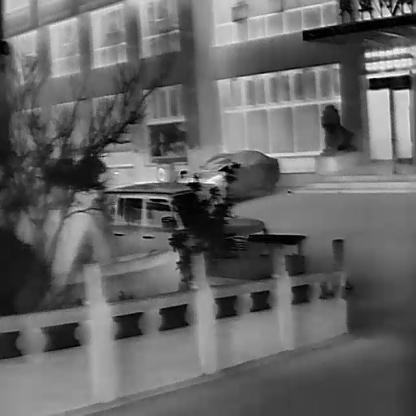car: (96, 179, 206, 234), (182, 149, 282, 201)
